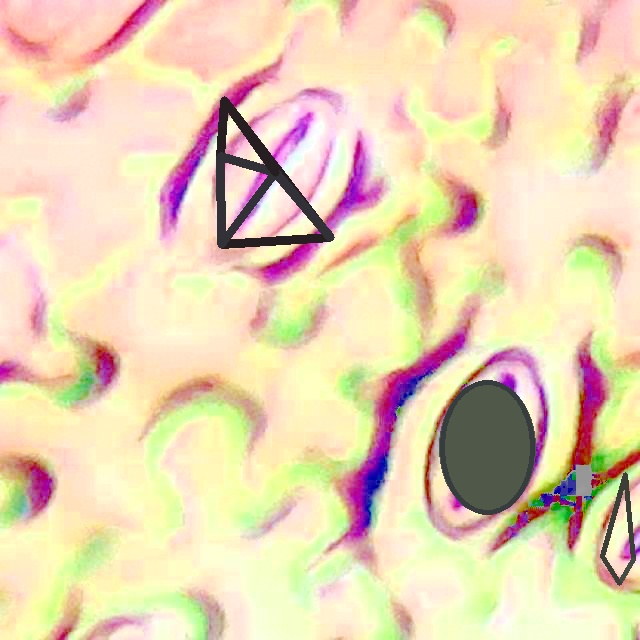open: (217, 97, 333, 247), (439, 380, 535, 514), (600, 472, 635, 585)
